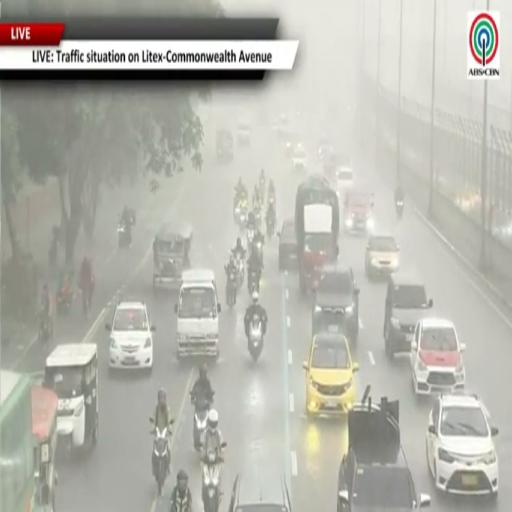bus: (0, 371, 34, 511)
car: (337, 397, 430, 511), (427, 393, 498, 498), (303, 333, 359, 417), (384, 270, 432, 359), (410, 317, 465, 394), (313, 263, 359, 344), (106, 301, 155, 371), (228, 466, 291, 511), (365, 234, 399, 278), (343, 188, 374, 233), (278, 219, 297, 270), (334, 166, 354, 200), (216, 130, 233, 162), (292, 143, 306, 171), (237, 119, 251, 146), (284, 131, 299, 156), (277, 114, 290, 138), (318, 142, 333, 161), (271, 118, 279, 133)
jeepney: (44, 344, 98, 453), (32, 386, 58, 511), (153, 223, 192, 289)
motorcycle: (150, 419, 173, 495), (202, 452, 223, 511), (191, 392, 212, 451), (248, 315, 263, 361), (80, 277, 94, 317), (38, 307, 53, 344), (56, 286, 73, 315), (227, 269, 237, 309), (118, 222, 131, 248), (234, 204, 247, 228), (251, 237, 263, 263), (236, 252, 244, 287), (248, 268, 258, 295), (267, 216, 275, 237), (258, 177, 266, 197), (396, 200, 404, 219), (246, 228, 254, 246), (254, 207, 261, 226)
truck: (295, 174, 339, 293)
